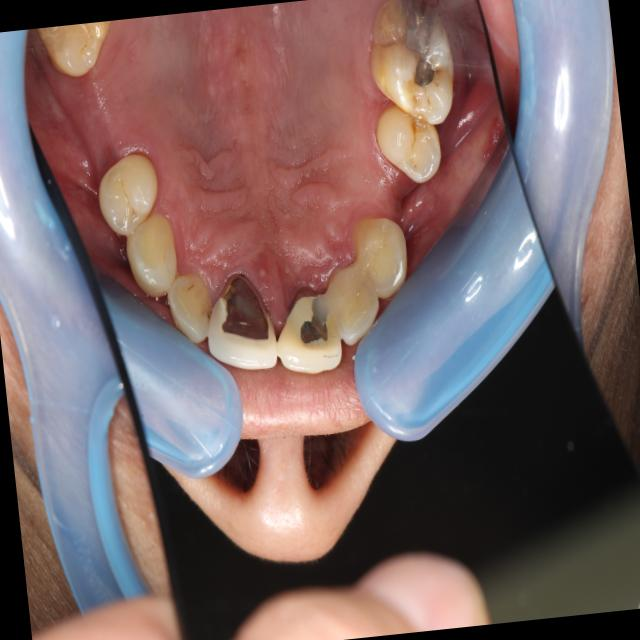tooth: (360, 0, 467, 136), (194, 253, 282, 379), (365, 87, 453, 191), (87, 145, 168, 241), (269, 282, 347, 379), (27, 19, 132, 84), (349, 209, 417, 303), (120, 206, 184, 303), (321, 258, 385, 351), (161, 262, 219, 349)
